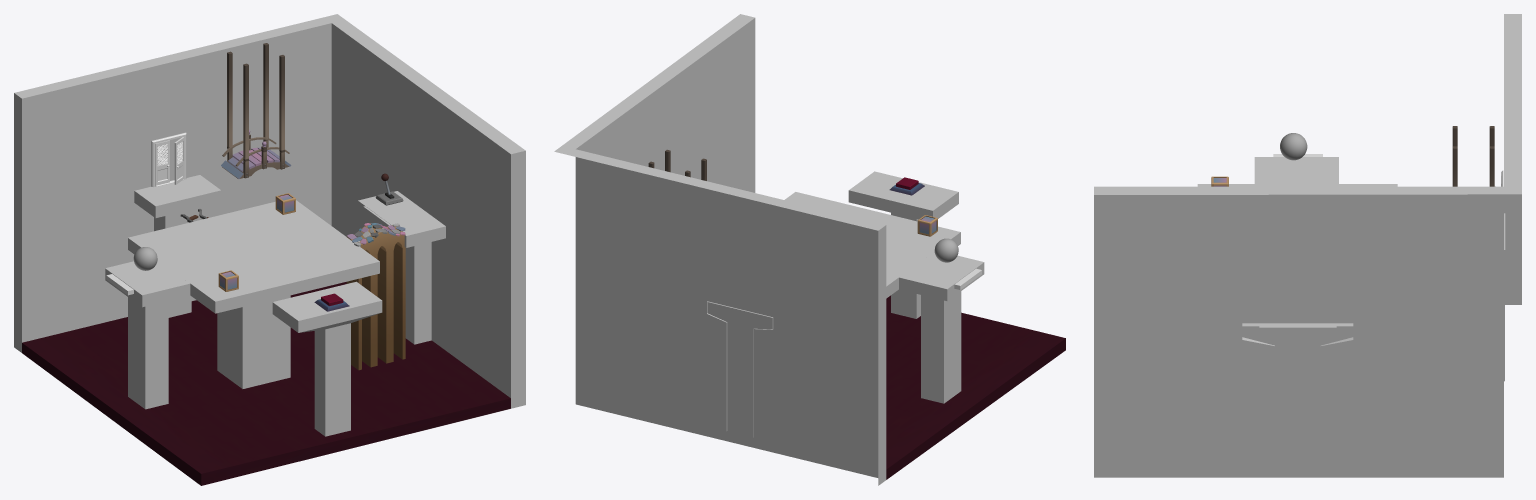
The model's file is Level1v2.fbx.
3 renders of one model, left to right at view 1: azimuth 30°, elevation 25°; view 2: azimuth 150°, elevation 25°; view 3: azimuth 270°, elevation 25°, orthographic. The views are drawn at different scales.
Parts seen in each view (by area): view 1: wallLeft, wallRight, wallVoid, platformMain, platformPressurePad, platformEntrance, Tiles2, platformSwitch, TreeBridgeFallDown, platformGoal, pSphere6; view 2: wallLeft, wallRight, wallVoid, platformEntrance, platformPressurePad, platformMain; view 3: wallRight, wallLeft, platformEntrance, TreeBridgeFallDown, drawBridge, pSphere1, platformSwitch, platformMain.
Boxes of the visible parts, bbox=[...] form: wallLeft: bbox=[14, 14, 337, 352]; wallRight: bbox=[331, 14, 525, 408]; wallVoid: bbox=[22, 282, 510, 485]; platformMain: bbox=[128, 200, 379, 388]; platformPressurePad: bbox=[272, 281, 382, 436]; platformEntrance: bbox=[105, 260, 190, 409]; Tiles2: bbox=[346, 223, 405, 370]; platformSwitch: bbox=[358, 191, 445, 344]; TreeBridgeFallDown: bbox=[221, 43, 291, 178]; platformGoal: bbox=[134, 175, 221, 317]; pSphere6: bbox=[151, 132, 186, 186]; wallLeft: bbox=[555, 149, 886, 485]; wallRight: bbox=[554, 14, 755, 192]; wallVoid: bbox=[886, 295, 1065, 479]; platformEntrance: bbox=[899, 251, 984, 403]; platformPressurePad: bbox=[848, 171, 958, 318]; platformMain: bbox=[784, 192, 960, 298]; wallRight: bbox=[1094, 186, 1520, 477]; wallLeft: bbox=[1504, 14, 1521, 304]; platformEntrance: bbox=[1254, 157, 1338, 183]; TreeBridgeFallDown: bbox=[1452, 126, 1494, 186]; drawBridge: bbox=[1259, 326, 1336, 334]; pSphere1: bbox=[1280, 133, 1307, 160]; platformSwitch: bbox=[1242, 323, 1353, 345]; platformMain: bbox=[1197, 184, 1397, 186].
Bounding box in the file's own units: 31.18 × 23.51 × 31.12.
